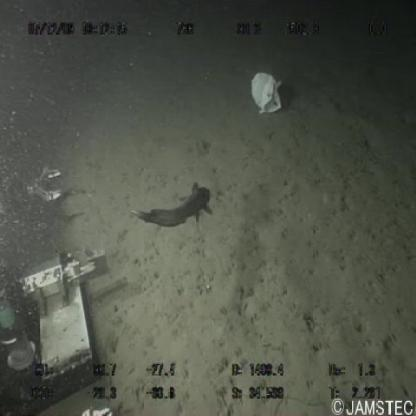Bio: (127, 179, 219, 235)
Rov: (1, 151, 119, 416)
Rác: (243, 67, 285, 125)
